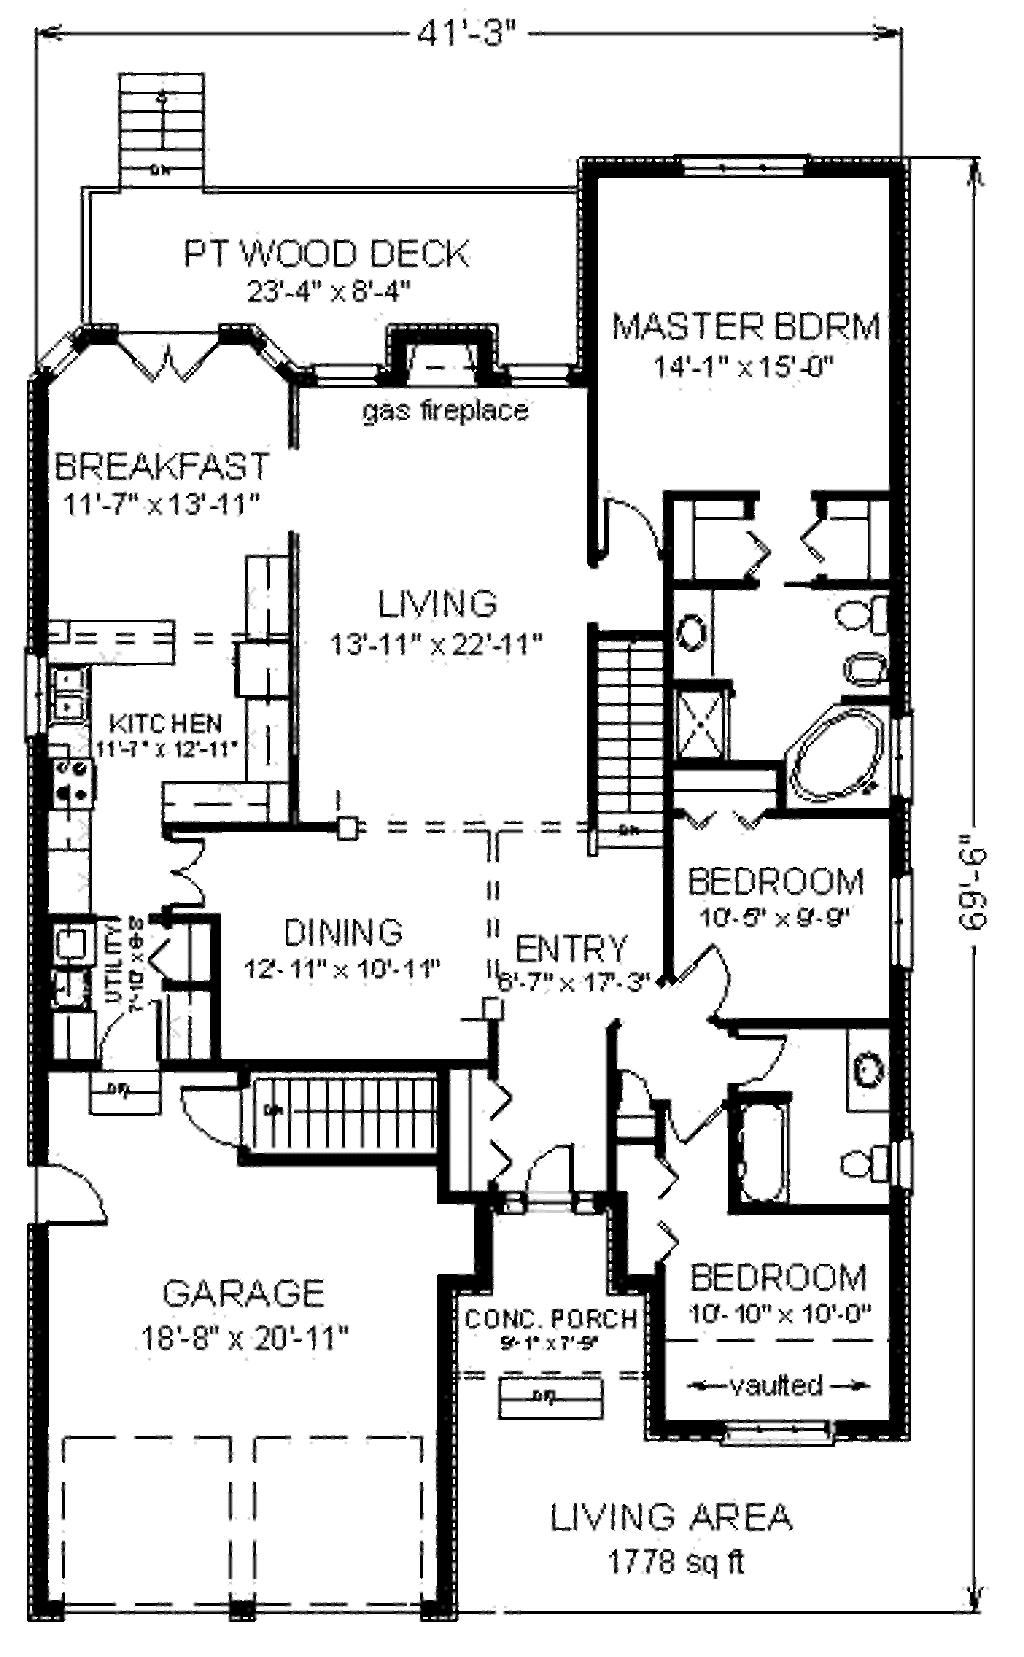door: (99, 320, 221, 391), (97, 1005, 168, 1124), (659, 933, 743, 1021), (587, 481, 668, 567), (175, 1062, 245, 1159), (22, 1158, 111, 1233), (519, 1136, 582, 1217), (157, 828, 211, 914), (656, 1087, 723, 1150), (733, 1016, 788, 1090), (611, 1059, 663, 1122)
large_sink: (835, 1140, 930, 1193), (832, 584, 900, 638)
small_sink: (674, 578, 719, 671), (844, 643, 909, 705)
stairs: (582, 614, 668, 871), (95, 59, 225, 212), (228, 1073, 444, 1162)
tub: (738, 1088, 799, 1208)
twin_sink: (45, 669, 88, 726)
window: (719, 1405, 850, 1461), (671, 141, 816, 185), (876, 871, 932, 976)
